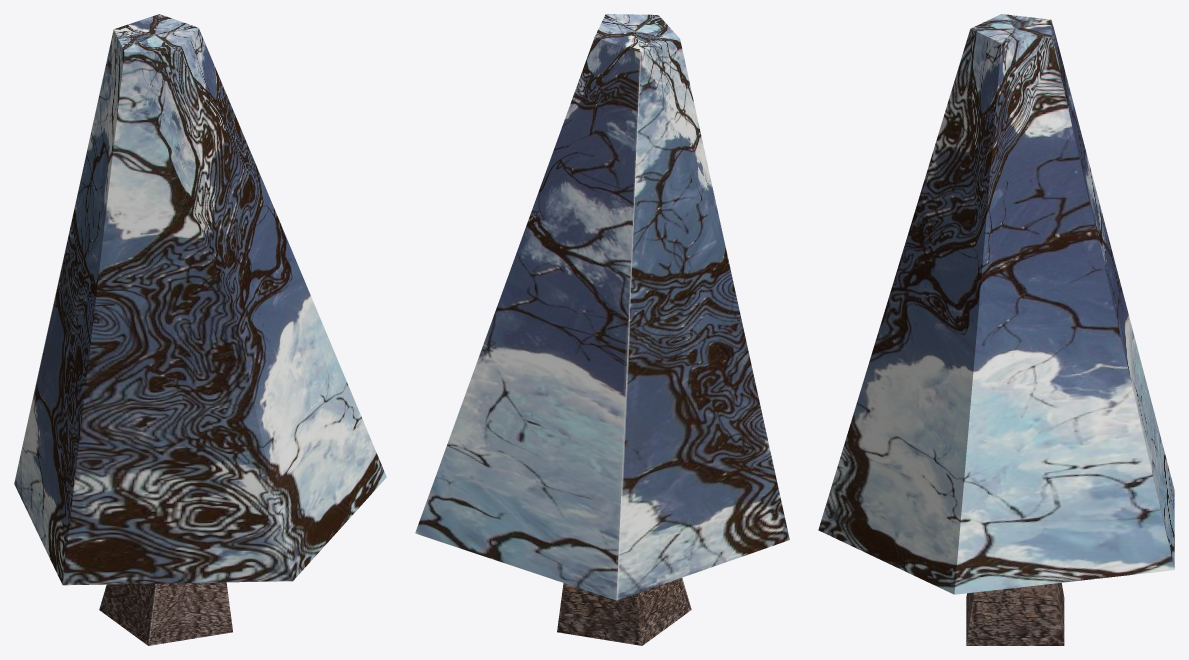
The model's file is beginner-tree.glb.
3 views of the same model, side by side, from view 1: azimuth 30°, elevation 25°; view 2: azimuth 150°, elevation 25°; view 3: azimuth 270°, elevation 25° (orthographic).
Bounding box in the file's own units: 0.3166 × 0.5561 × 0.3022.
Materials: 1 (1 with a texture image).
